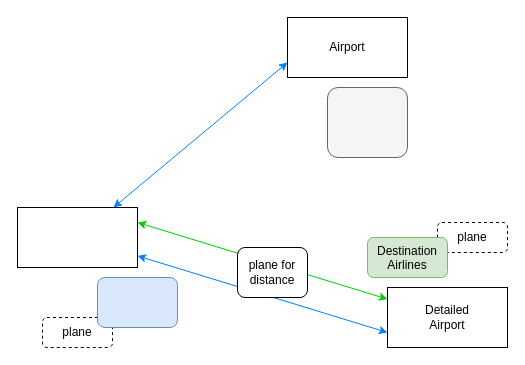
Some shapes in this 525 by 365 pixel diagram are drawn without their labels. Each missing label, with the centre of its shape:
Home Airlines: the point at 137,302
Managed Airport: the point at 77,237
Unknown Airlines, unknown planes: the point at 367,122
